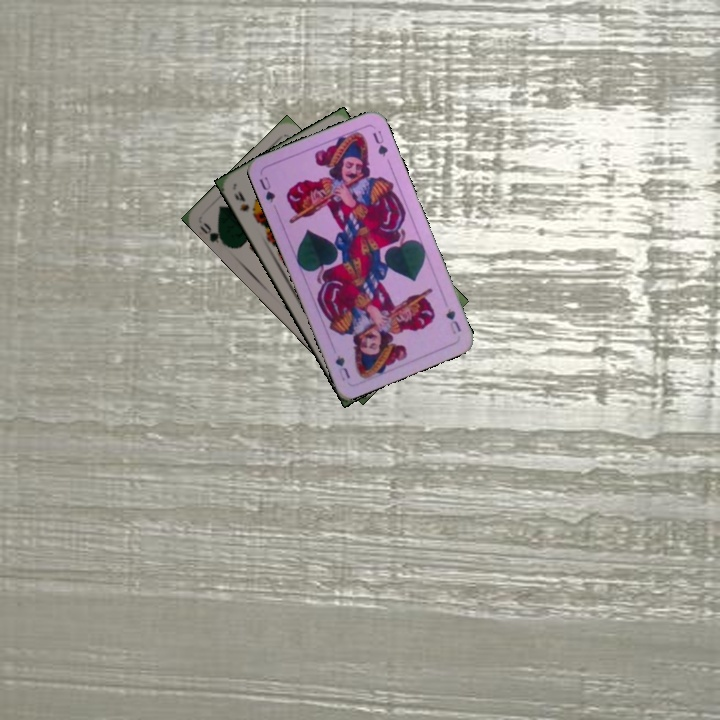GO: (196, 218, 231, 249)
GU: (255, 173, 278, 205), (442, 304, 464, 337)
S9: (230, 187, 259, 221)
